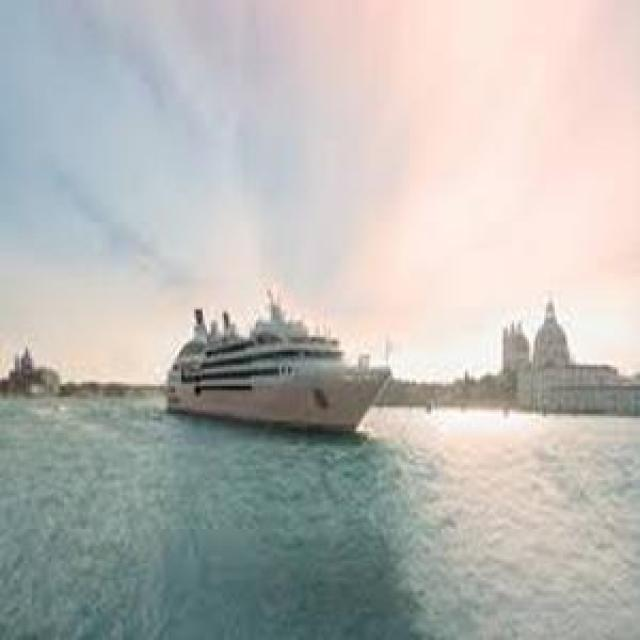passenger ship: (156, 287, 395, 434)
